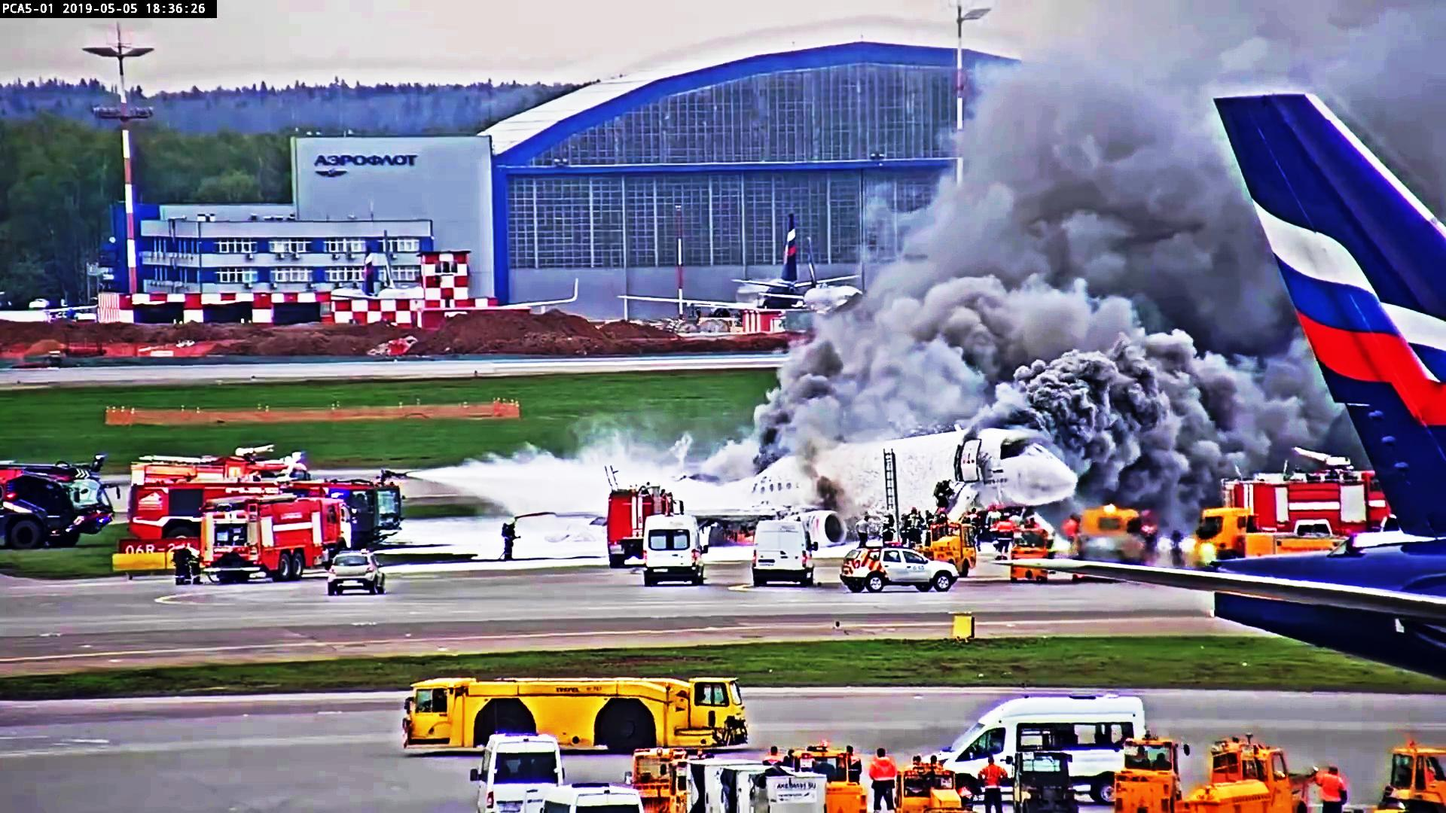smoke: (929, 116, 1162, 416), (1028, 337, 1279, 461)
